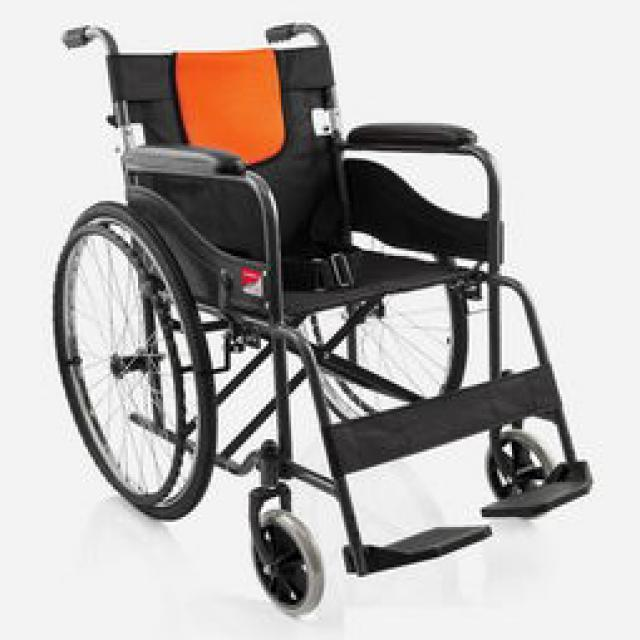wheelchair: (2, 10, 628, 612)
